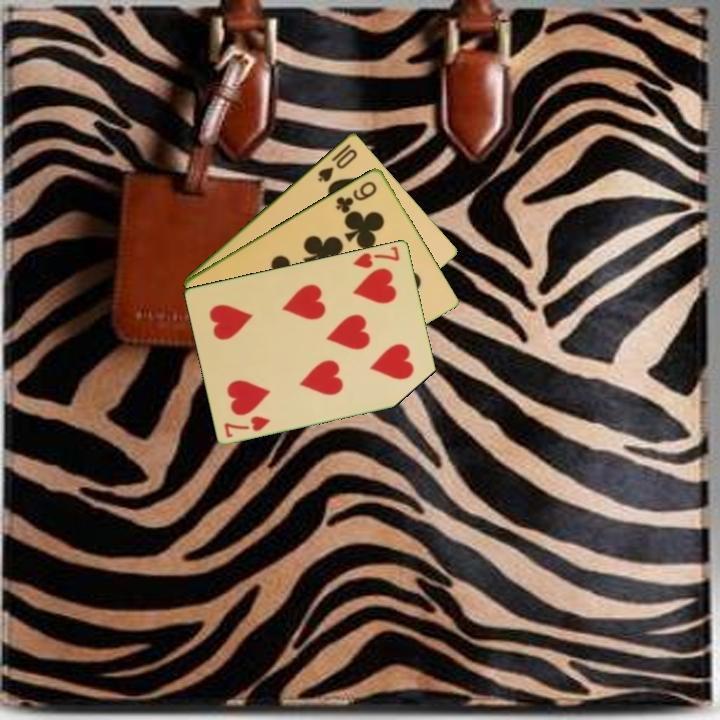10s: (314, 145, 360, 185)
7h: (350, 242, 403, 271), (221, 412, 273, 440)
9c: (332, 177, 380, 215)
